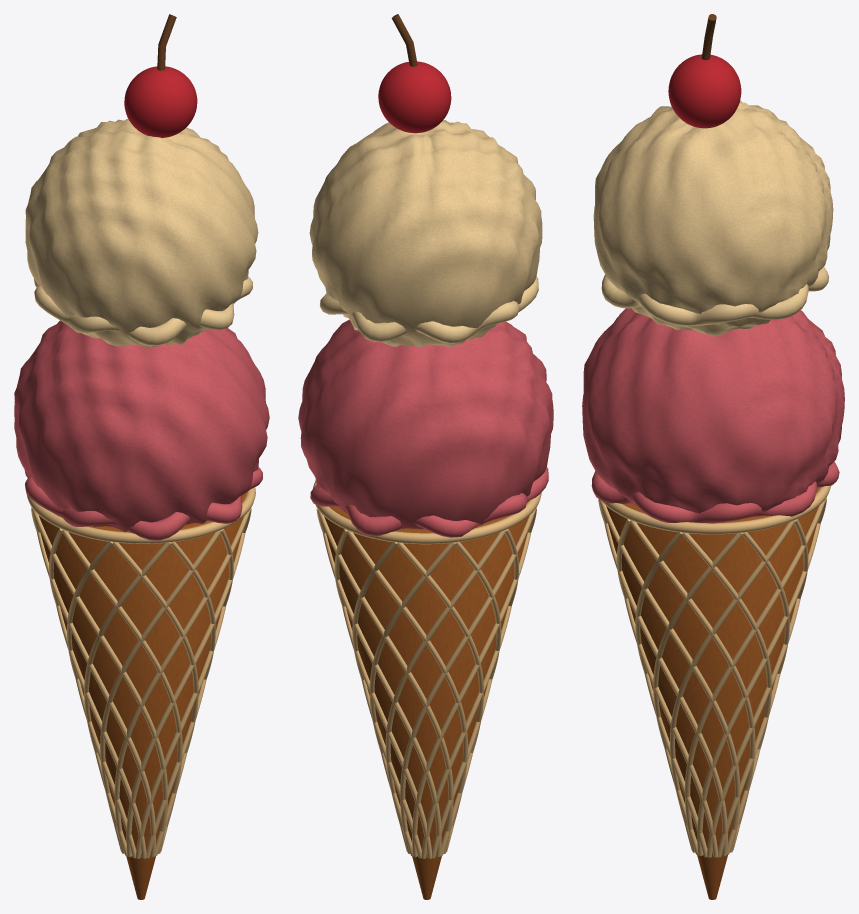
Rendered from ice_cream_cone.glb.
The picture shows the model from 3 angles, left to right: view 1: azimuth 30°, elevation 25°; view 2: azimuth 150°, elevation 25°; view 3: azimuth 270°, elevation 25°; orthographic projection. The views are drawn at different scales.
Visible parts, largest first — view 1: GEO-Hand scooped gelato, GEO-Hand scooped gelato.001, GEO-Hollow tapered waffle cone, GEO-Cherry, GEO-Scooped ruffle, GEO-Scooped ruffle.001, GEO-Rolled cone rim, GEO-Conformal waffle diagonal.017, GEO-Conformal waffle diagonal.011, GEO-Conformal waffle diagonal.018, GEO-Conformal waffle diagonal.010, GEO-Conformal waffle diagonal.016 (+9 smaller); view 2: GEO-Hand scooped gelato, GEO-Hand scooped gelato.001, GEO-Hollow tapered waffle cone, GEO-Cherry, GEO-Scooped ruffle, GEO-Scooped ruffle.001, GEO-Rolled cone rim, GEO-Conformal waffle diagonal.007, GEO-Conformal waffle diagonal.013, GEO-Conformal waffle diagonal.014, GEO-Conformal waffle diagonal.006, GEO-Conformal waffle diagonal.008 (+9 smaller); view 3: GEO-Hand scooped gelato, GEO-Hand scooped gelato.001, GEO-Hollow tapered waffle cone, GEO-Cherry, GEO-Scooped ruffle, GEO-Scooped ruffle.001, GEO-Rolled cone rim, GEO-Conformal waffle diagonal.021, GEO-Conformal waffle diagonal.003, GEO-Conformal waffle diagonal.002, GEO-Conformal waffle diagonal.022, GEO-Conformal waffle diagonal.004 (+9 smaller).
Part boxes in pixels (<box>): GEO-Hand scooped gelato: <box>14,320,269,531</box>; GEO-Hand scooped gelato.001: <box>25,119,258,347</box>; GEO-Hollow tapered waffle cone: <box>39,492,247,899</box>; GEO-Cherry: <box>124,66,197,137</box>; GEO-Scooped ruffle: <box>24,467,262,540</box>; GEO-Scooped ruffle.001: <box>33,277,252,346</box>; GEO-Rolled cone rim: <box>26,487,255,543</box>; GEO-Conformal waffle diagonal.017: <box>114,509,250,853</box>; GEO-Conformal waffle diagonal.011: <box>32,508,167,853</box>; GEO-Conformal waffle diagonal.018: <box>126,532,245,856</box>; GEO-Conformal waffle diagonal.010: <box>37,532,155,857</box>; GEO-Conformal waffle diagonal.016: <box>100,530,221,826</box>; GEO-Hand scooped gelato: <box>298,319,553,528</box>; GEO-Hand scooped gelato.001: <box>309,120,542,347</box>; GEO-Hollow tapered waffle cone: <box>324,502,529,899</box>; GEO-Cherry: <box>378,61,451,133</box>; GEO-Scooped ruffle: <box>310,467,548,537</box>; GEO-Scooped ruffle.001: <box>320,276,538,343</box>; GEO-Rolled cone rim: <box>313,480,541,544</box>; GEO-Conformal waffle diagonal.007: <box>317,510,453,853</box>; GEO-Conformal waffle diagonal.013: <box>400,509,536,853</box>; GEO-Conformal waffle diagonal.014: <box>412,532,531,857</box>; GEO-Conformal waffle diagonal.006: <box>323,533,441,857</box>; GEO-Conformal waffle diagonal.008: <box>346,530,467,826</box>; GEO-Hand scooped gelato: <box>582,308,844,513</box>; GEO-Hand scooped gelato.001: <box>593,100,833,336</box>; GEO-Hollow tapered waffle cone: <box>606,487,820,899</box>; GEO-Cherry: <box>668,54,741,128</box>; GEO-Scooped ruffle: <box>591,461,839,523</box>; GEO-Scooped ruffle.001: <box>601,267,828,326</box>; GEO-Rolled cone rim: <box>601,485,830,534</box>; GEO-Conformal waffle diagonal.021: <box>685,499,826,852</box>; GEO-Conformal waffle diagonal.003: <box>599,499,740,852</box>; GEO-Conformal waffle diagonal.002: <box>604,523,727,855</box>; GEO-Conformal waffle diagonal.022: <box>697,523,820,855</box>; GEO-Conformal waffle diagonal.004: <box>629,520,755,824</box>.
Bounding box in the file's own units: 0.0654 × 0.2469 × 0.0654.
Materials: 6 (4 with a texture image).
